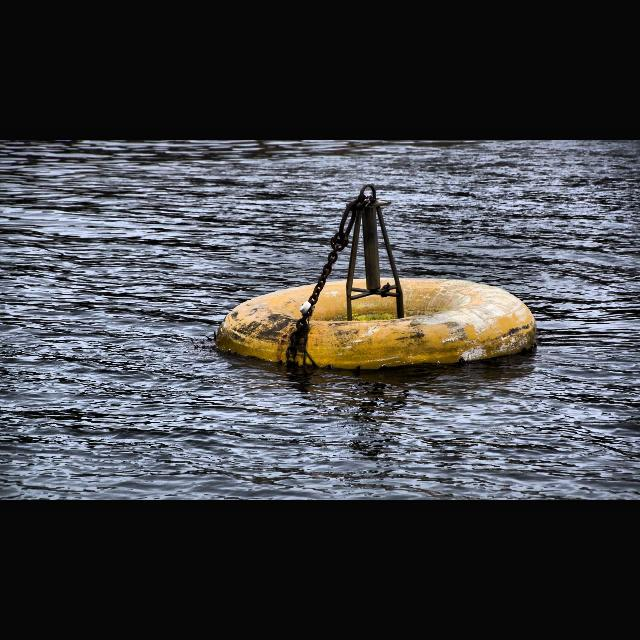buoy: (215, 184, 537, 374)
